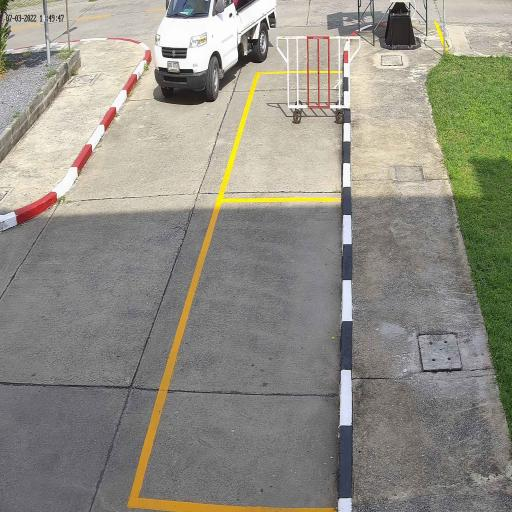car: (154, 0, 276, 98)
